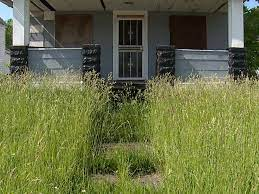grass: (1, 85, 259, 193)
